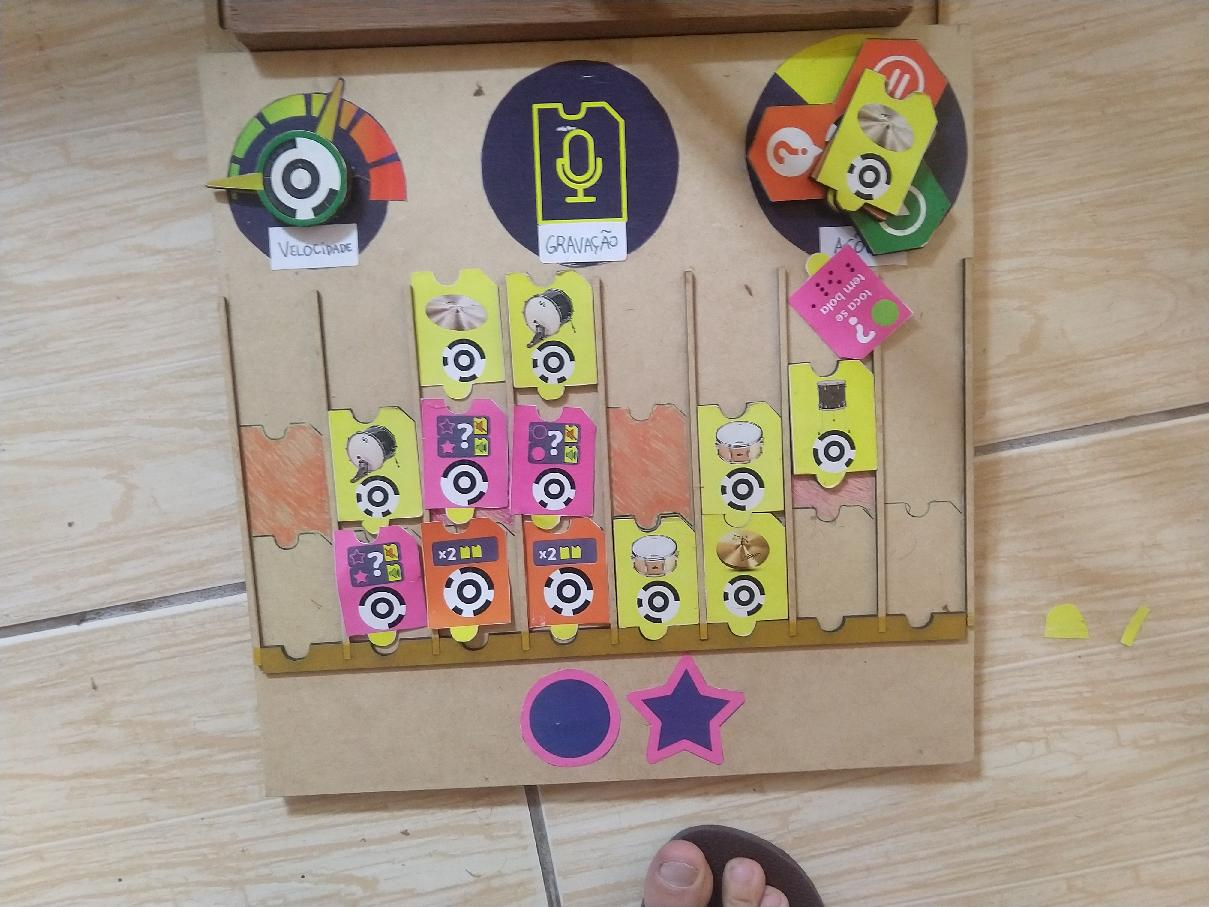bumbo: (504, 270, 597, 406), (327, 406, 424, 529)
